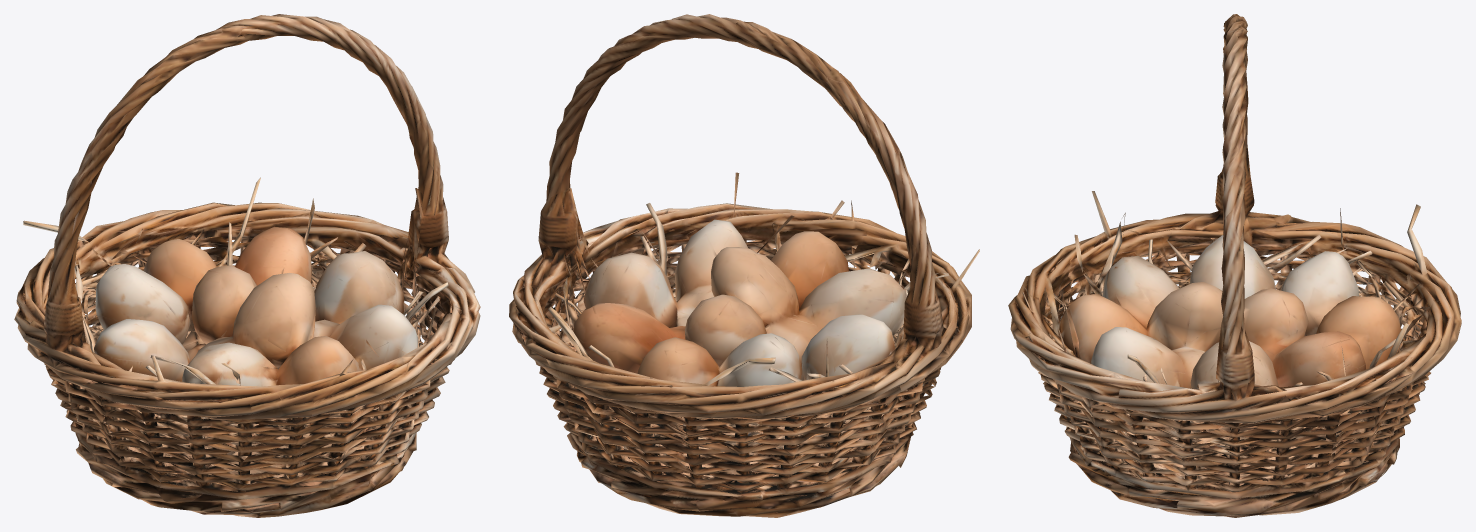
Rendered from o14_yumurta_sepeti.glb.
The picture shows the model from 3 angles, left to right: view 1: azimuth 30°, elevation 25°; view 2: azimuth 150°, elevation 25°; view 3: azimuth 270°, elevation 25°; orthographic projection. The views are drawn at different scales.
Bounding box in the file's own units: 1.86 × 1.91 × 1.87.
Materials: 1 (1 with a texture image).
